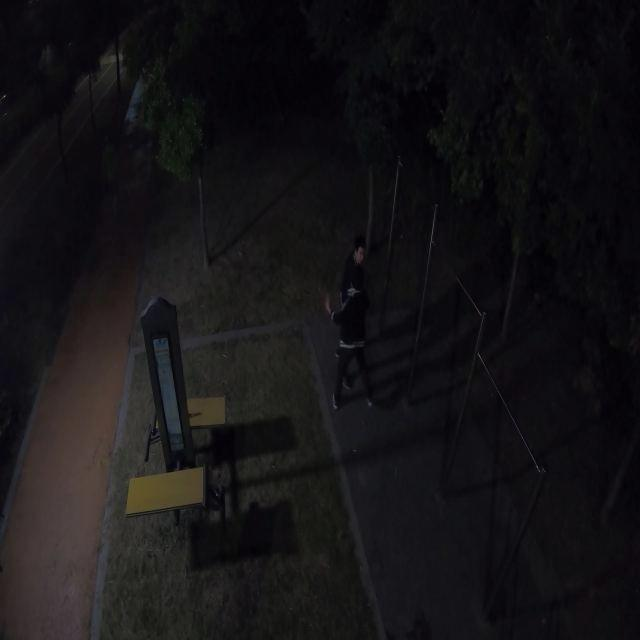fight: (317, 230, 376, 410)
